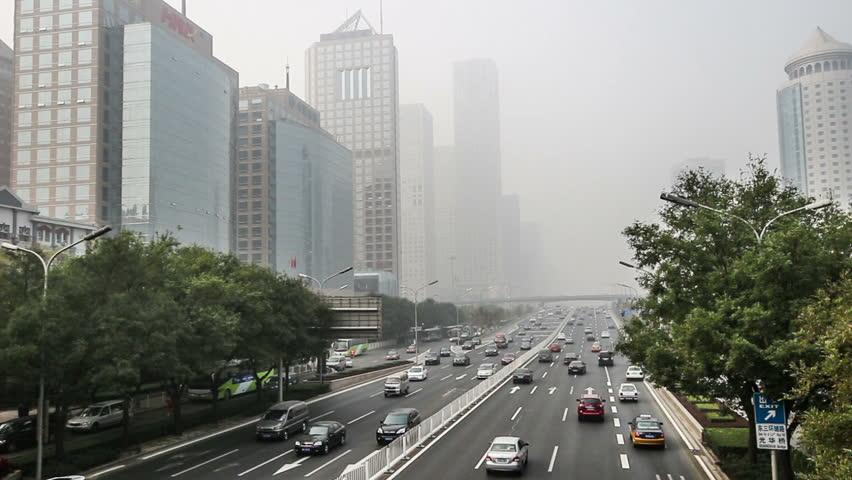bus: (187, 357, 275, 401), (331, 337, 369, 356), (419, 327, 442, 343), (446, 327, 463, 344), (494, 333, 509, 350)
car: (65, 400, 134, 434), (255, 400, 309, 441), (294, 421, 346, 457), (484, 436, 530, 475), (376, 406, 422, 445), (627, 413, 665, 450), (575, 394, 606, 421), (384, 371, 410, 397), (264, 375, 291, 392), (618, 383, 639, 402), (512, 367, 534, 384), (325, 355, 347, 372), (477, 363, 498, 380), (407, 365, 428, 381), (567, 360, 587, 375), (314, 368, 338, 380), (625, 366, 645, 380), (597, 351, 614, 366), (424, 351, 441, 366), (453, 353, 471, 366), (537, 349, 553, 363), (563, 352, 579, 365), (484, 344, 499, 357), (501, 352, 516, 365), (384, 349, 400, 361), (406, 344, 420, 354), (462, 341, 476, 350), (520, 334, 534, 343), (591, 342, 603, 352), (549, 343, 561, 353), (520, 341, 532, 350), (440, 347, 450, 356), (471, 337, 481, 346), (460, 332, 470, 341), (601, 330, 611, 338), (564, 336, 574, 344), (558, 332, 566, 340), (584, 327, 593, 334), (587, 334, 595, 341), (505, 336, 513, 343), (529, 316, 537, 323), (518, 330, 526, 336), (576, 320, 583, 326), (524, 324, 531, 330), (605, 313, 611, 319), (608, 323, 615, 328), (578, 315, 584, 320), (567, 320, 573, 325)
